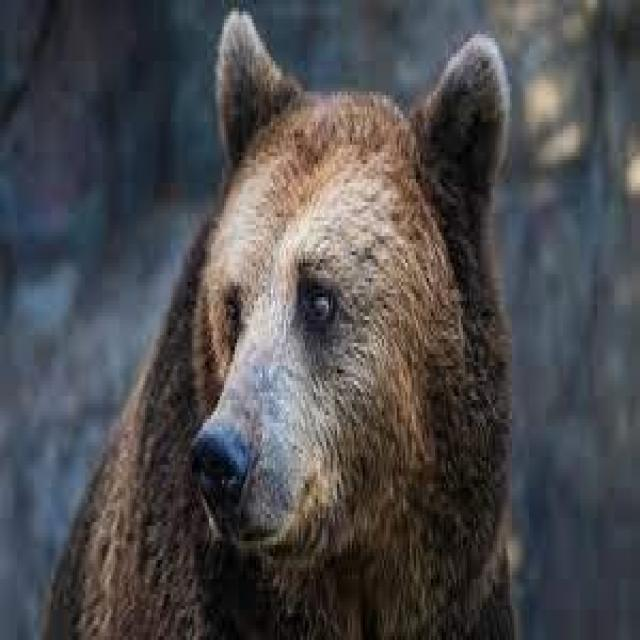Bear: (36, 11, 518, 640)
